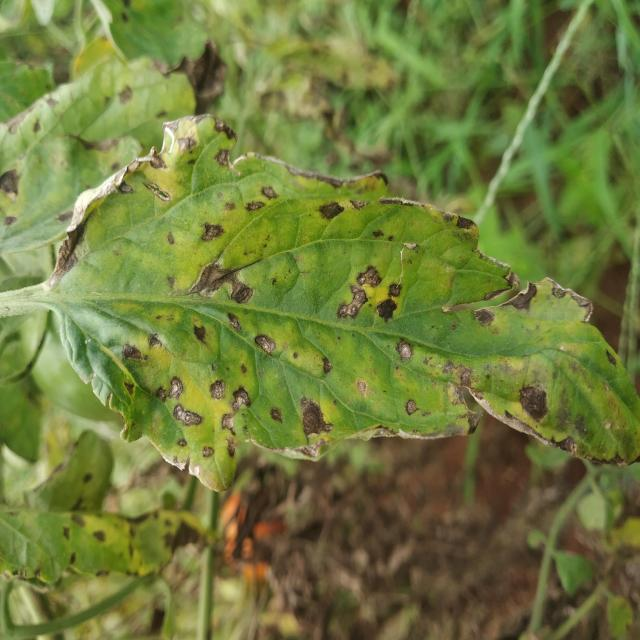Early Blight: (146, 53, 531, 640)
